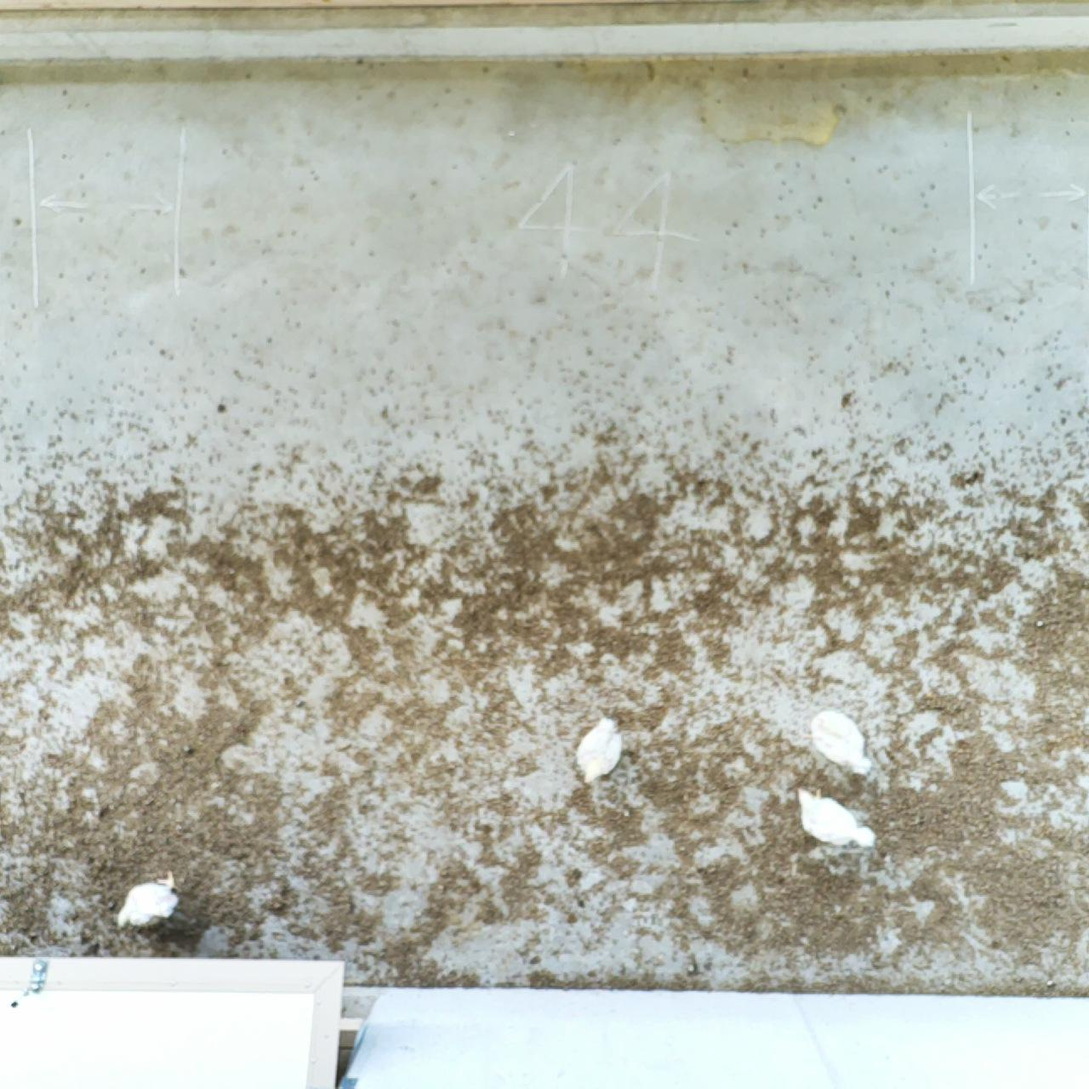chicken: (791, 783, 879, 857), (808, 707, 877, 777), (112, 867, 182, 928), (571, 712, 627, 785)
